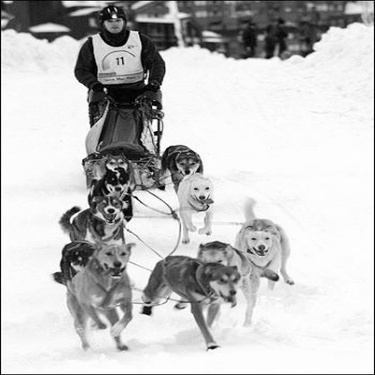dog: (131, 251, 247, 356), (173, 235, 280, 336), (55, 236, 142, 358), (234, 186, 304, 300), (35, 235, 118, 307), (55, 192, 138, 258), (160, 175, 223, 254), (150, 139, 223, 206), (75, 170, 148, 230), (106, 153, 139, 202)
